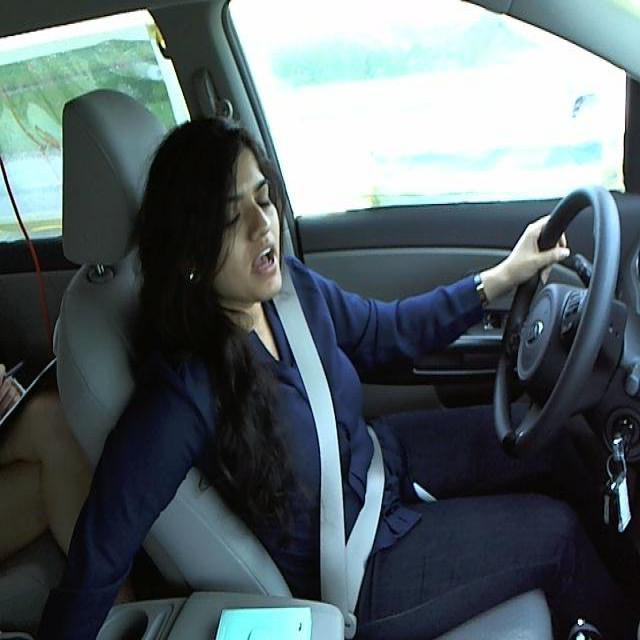seatbelt: (265, 292, 395, 595)
